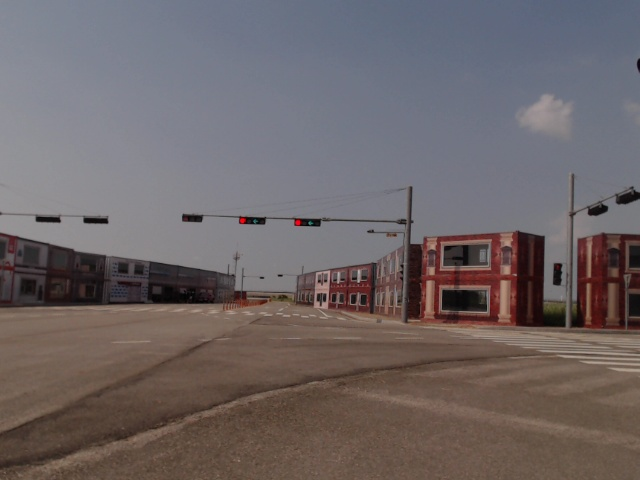left_green_4: (239, 217, 266, 225), (295, 219, 321, 227)
